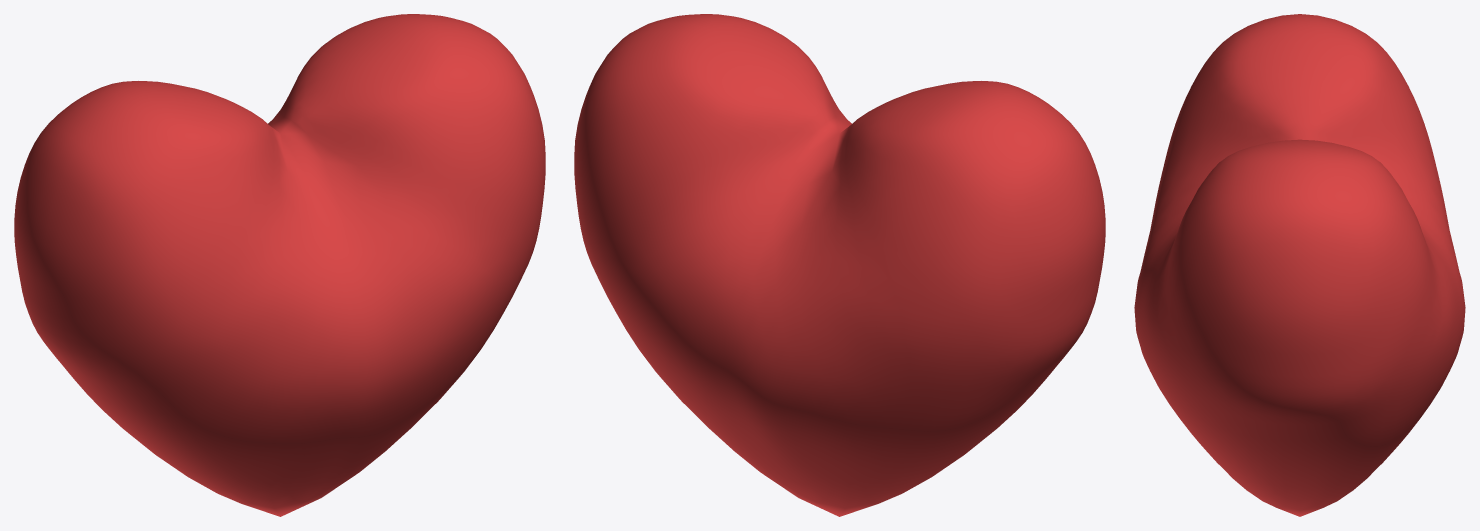
The model's file is Heart.fbx.
The picture shows the model from 3 angles, left to right: view 1: azimuth 30°, elevation 25°; view 2: azimuth 150°, elevation 25°; view 3: azimuth 270°, elevation 25°; orthographic projection. The views are drawn at different scales.
Visible parts, largest first — view 1: Heart; view 2: Heart; view 3: Heart.
Boxes of the visible parts, x1,y1,x2,y2 form: Heart: (14, 14, 545, 516); Heart: (574, 14, 1105, 516); Heart: (1134, 14, 1465, 516).
Size of the model in its own units: 5 by 4.4 by 3.08.
